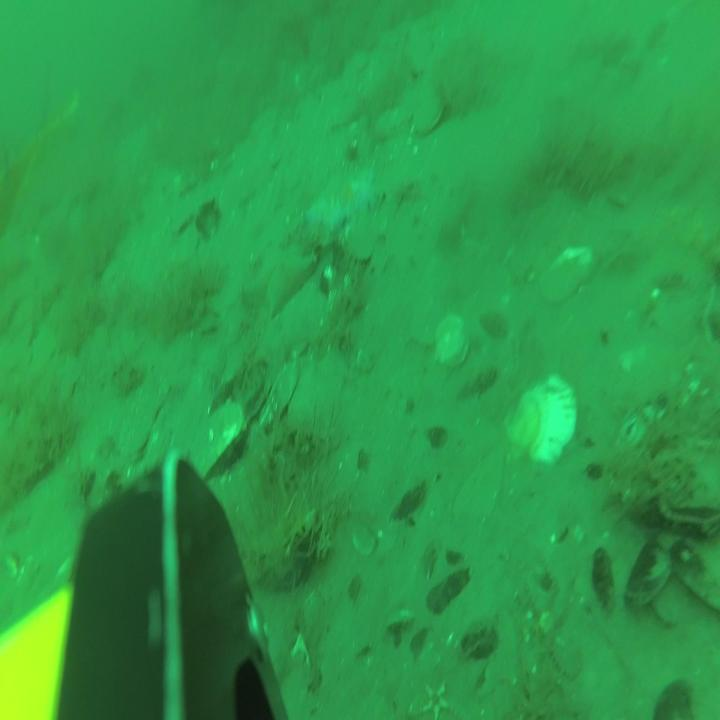scallop: (509, 375, 577, 466), (193, 403, 243, 479), (540, 242, 592, 301), (121, 397, 157, 456), (433, 313, 466, 365), (415, 91, 445, 138), (375, 107, 407, 137)
starfish: (302, 164, 373, 242), (243, 246, 319, 315)
